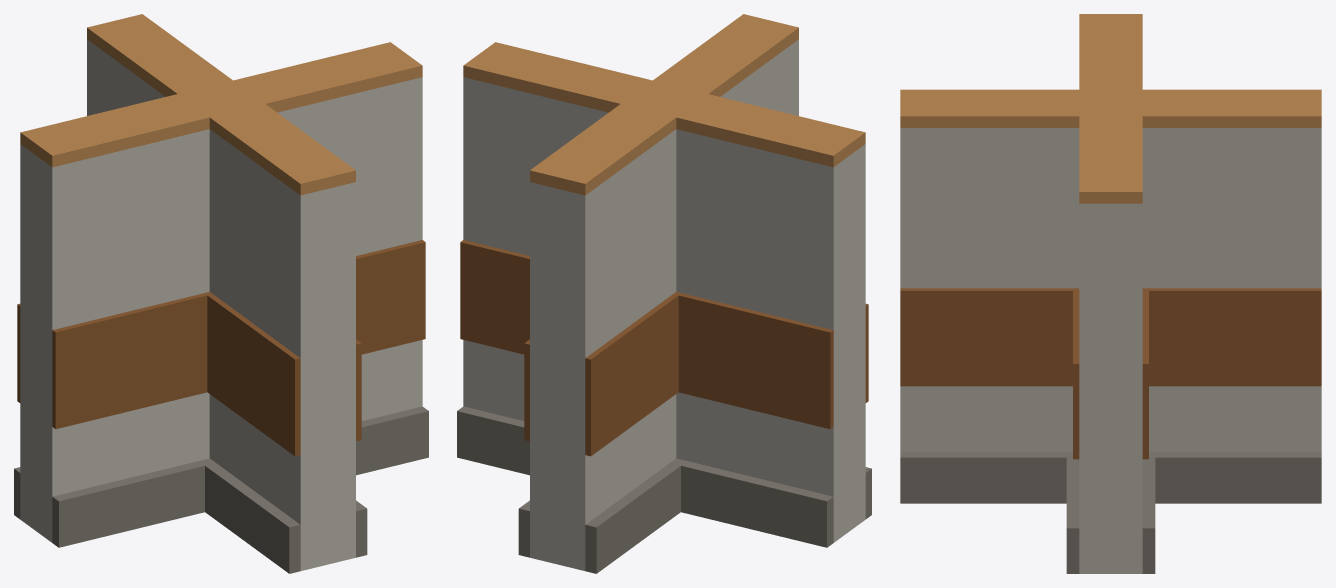
The model's file is partition-full-cross.glb.
3 views of the same model, side by side, from view 1: azimuth 30°, elevation 25°; view 2: azimuth 150°, elevation 25°; view 3: azimuth 270°, elevation 25° (orthographic).
Parts seen in each view (by area): view 1: partition-full-cross; view 2: partition-full-cross; view 3: partition-full-cross.
Part boxes in pixels (bbox=[...]): partition-full-cross: bbox=[14, 14, 428, 573]; partition-full-cross: bbox=[457, 14, 871, 573]; partition-full-cross: bbox=[900, 14, 1321, 573].
Size of the model in its own units: 1 by 1 by 1.
1 material, 1 textured.
